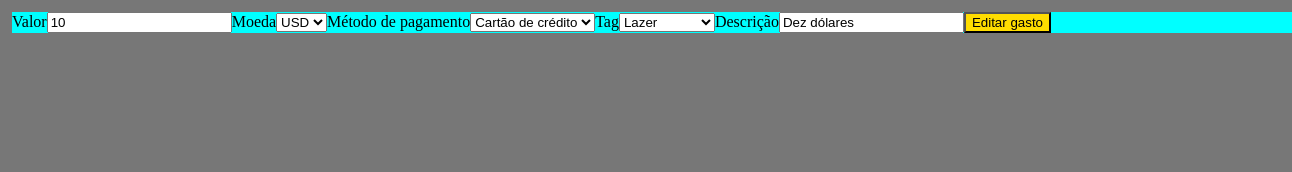
it: Tests EditExpense component › Tests if EditExpense valor input can be modified
Type "0" into the number field with placeholder "0" at (139, 22), box [47, 12, 232, 33]
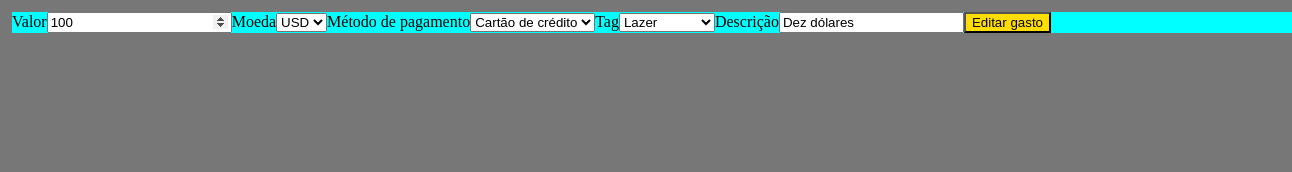
Check: the number field with placeholder "0" holds "100", box [47, 12, 232, 33]
